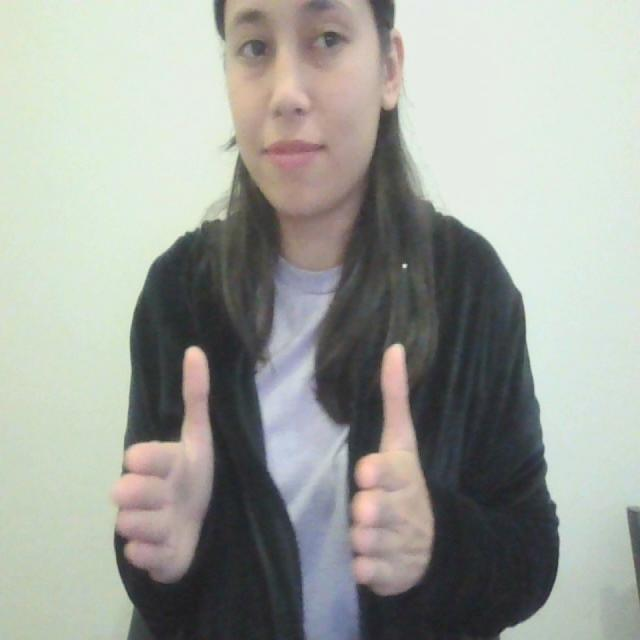Nasil: (99, 333, 436, 615)
